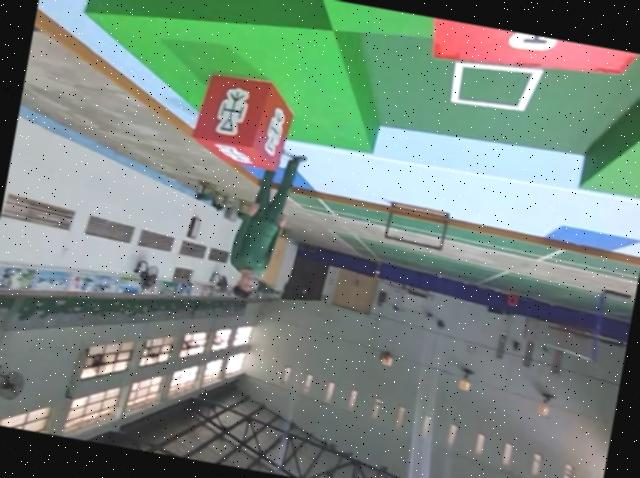R2 Real: (186, 67, 297, 174)
